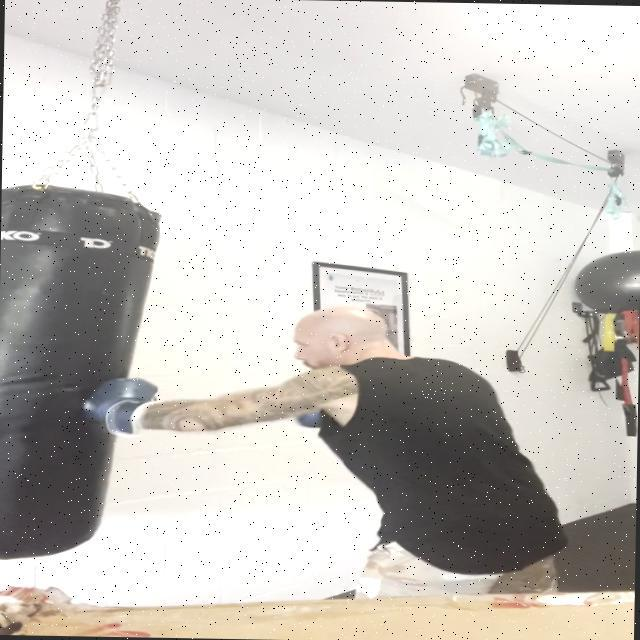bag: (0, 179, 162, 570)
jab: (79, 296, 508, 462)
